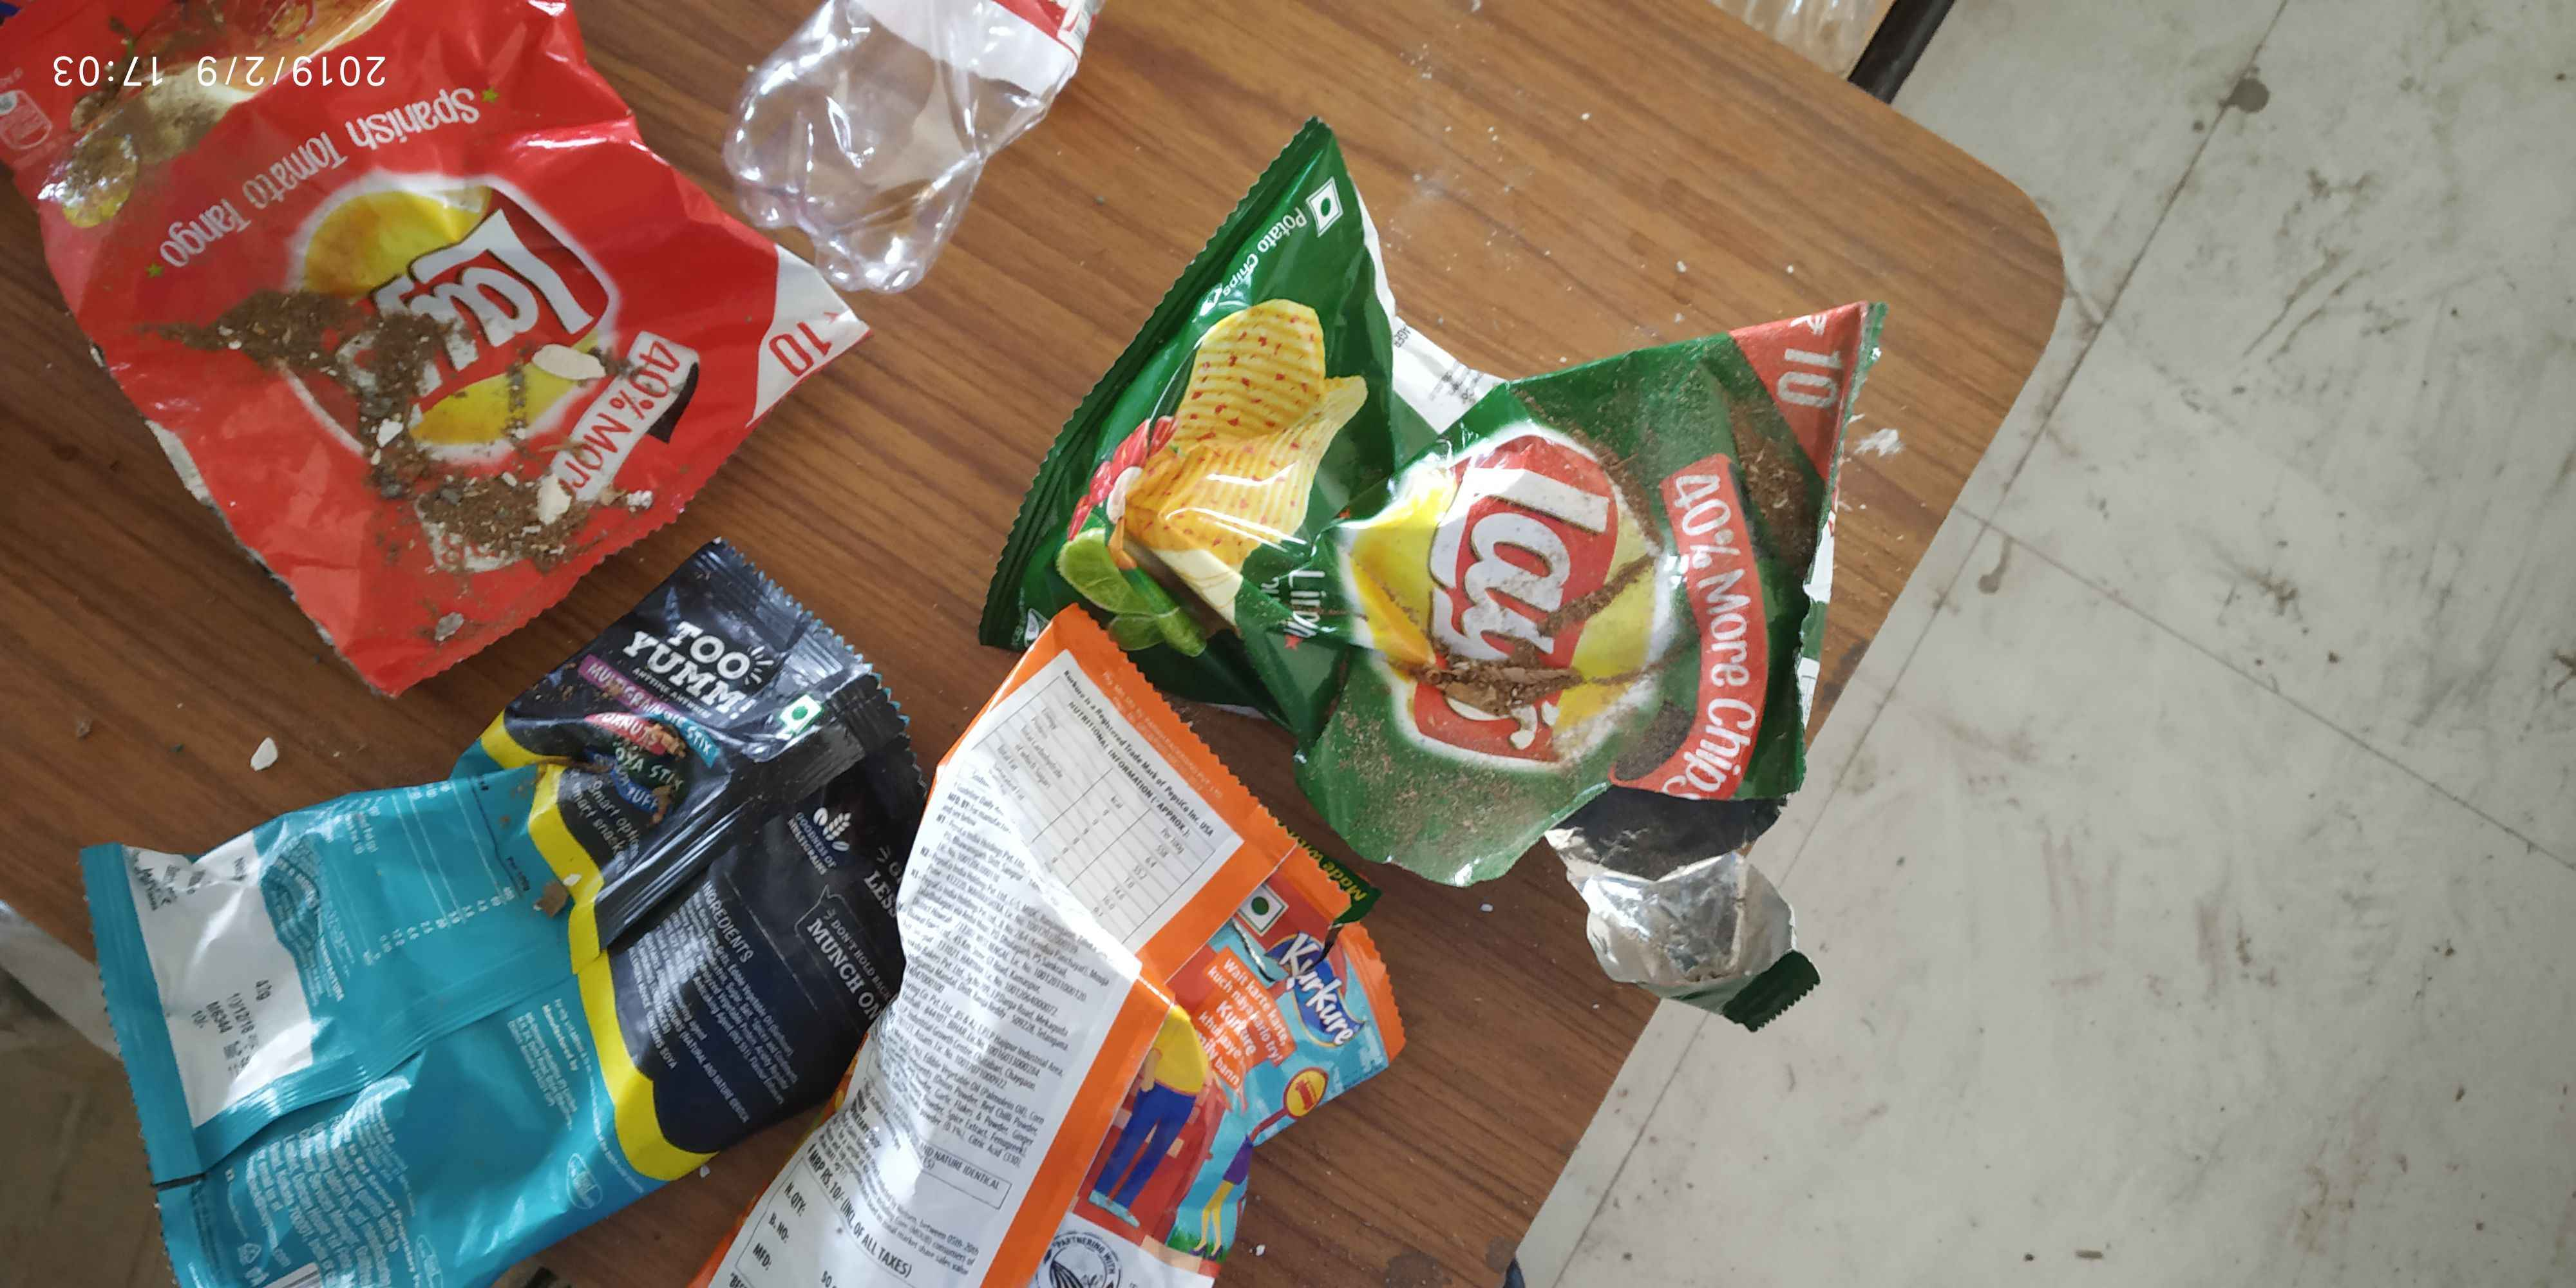Lays: (1359, 402, 1674, 780), (286, 176, 614, 473)
kurkure: (1249, 909, 1382, 1055)
tooyumm: (618, 590, 772, 744)
